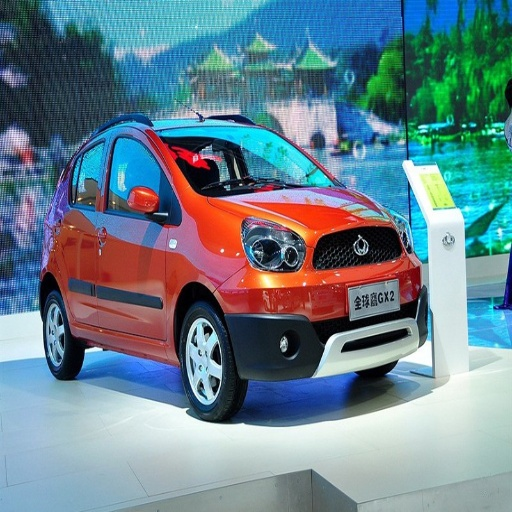front_bumper: (223, 226, 424, 379)
front_right_door: (99, 127, 173, 339)
front_right_light: (241, 217, 306, 272)
